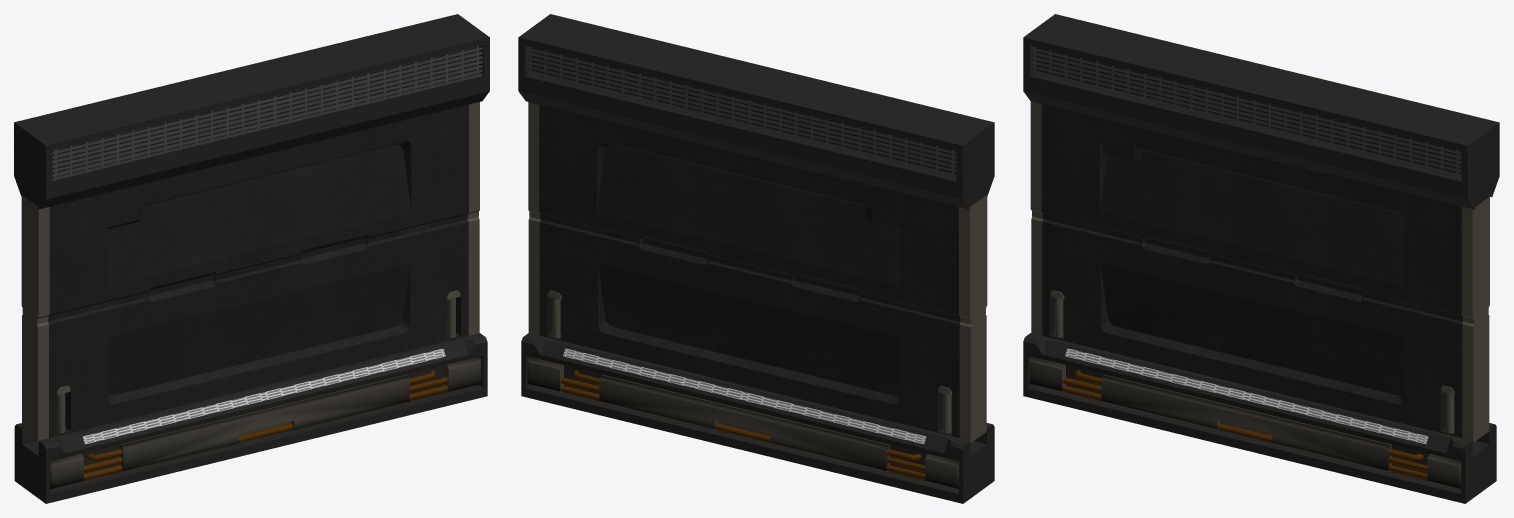
Rendered from tor.glb.
The picture shows the model from 3 angles, left to right: view 1: azimuth 30°, elevation 25°; view 2: azimuth 150°, elevation 25°; view 3: azimuth 330°, elevation 25°; orthographic projection.
Visible parts, largest first — view 1: prop_tor_high_tech_garage_door_s; view 2: prop_tor_high_tech_garage_door_s; view 3: prop_tor_high_tech_garage_door_s.
Part boxes in pixels (x1,y1,x2,y2): prop_tor_high_tech_garage_door_s: [14, 14, 489, 503]; prop_tor_high_tech_garage_door_s: [518, 14, 994, 503]; prop_tor_high_tech_garage_door_s: [1023, 14, 1499, 503].
Bounding box in the file's own units: 5.26 × 4.05 × 0.6539.
Materials: 5 (4 with a texture image).
